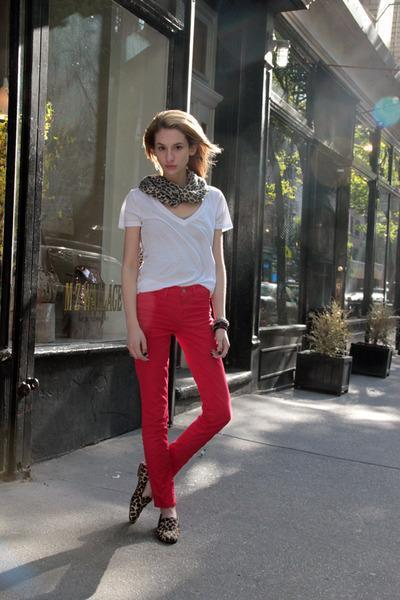pants: (135, 284, 230, 516)
shirt: (119, 188, 232, 299)
shoe: (119, 477, 176, 545)
